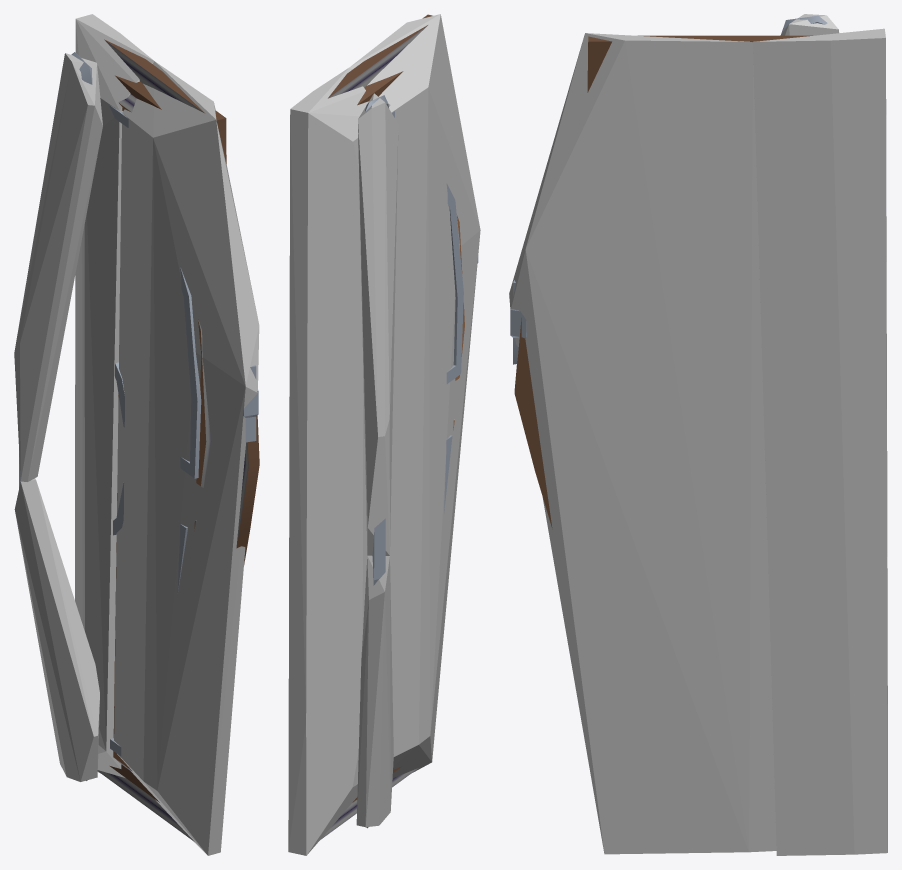
Rendered from SM_Prop_Cupboard_01_Door_02.fbx.
The picture shows the model from 3 angles, left to right: view 1: azimuth 30°, elevation 25°; view 2: azimuth 150°, elevation 25°; view 3: azimuth 270°, elevation 25°; orthographic projection. The views are drawn at different scales.
Parts seen in each view (by area): view 1: SM_Prop_Cupboard_01_Door_02_ConvexHulls, SM_Prop_Cupboard_01_Door_02; view 2: SM_Prop_Cupboard_01_Door_02_ConvexHulls, SM_Prop_Cupboard_01_Door_02; view 3: SM_Prop_Cupboard_01_Door_02_ConvexHulls, SM_Prop_Cupboard_01_Door_02.
Boxes of the visible parts, x1,y1,x2,y2 form: SM_Prop_Cupboard_01_Door_02_ConvexHulls: [14, 14, 259, 855]; SM_Prop_Cupboard_01_Door_02: [19, 39, 259, 841]; SM_Prop_Cupboard_01_Door_02_ConvexHulls: [288, 14, 480, 855]; SM_Prop_Cupboard_01_Door_02: [320, 14, 478, 839]; SM_Prop_Cupboard_01_Door_02_ConvexHulls: [509, 14, 887, 855]; SM_Prop_Cupboard_01_Door_02: [510, 15, 827, 527].
Bounding box in the file's own units: 26.07 × 87.55 × 208.
Materials: 2 (1 with a texture image).
